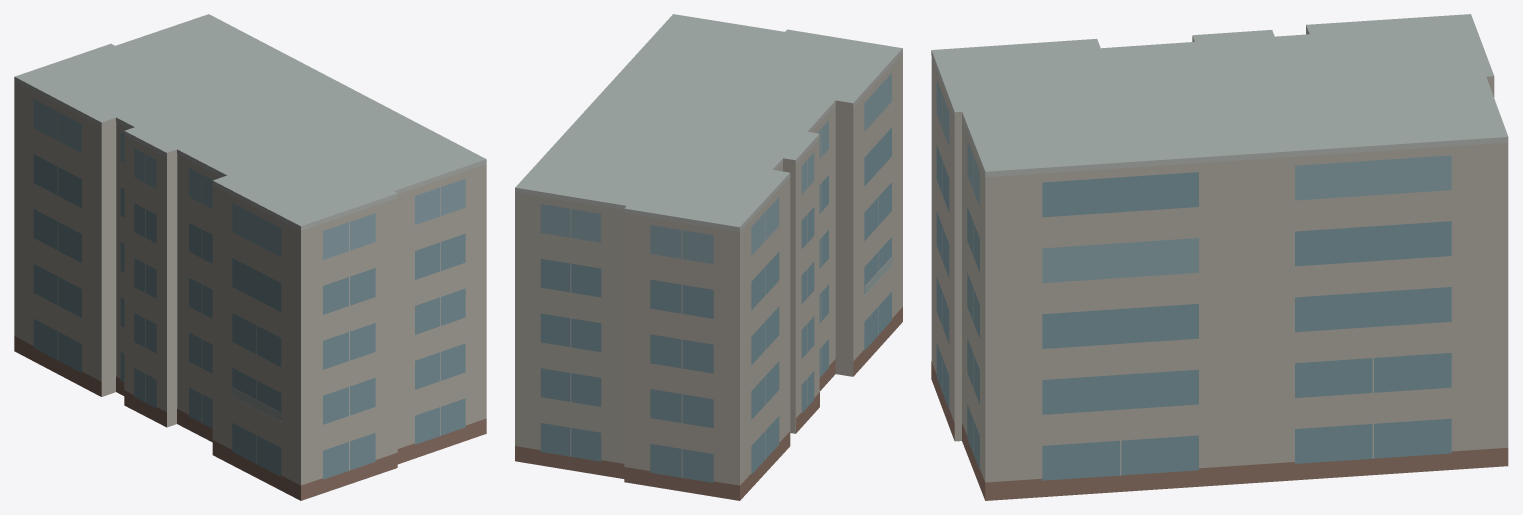
The model's file is survey-upis-32754509.glb.
3 renders of one model, left to right at view 1: azimuth 30°, elevation 25°; view 2: azimuth 150°, elevation 25°; view 3: azimuth 270°, elevation 25°, orthographic. The views are drawn at different scales.
Parts seen in each view (by area): view 1: survey-upis-32754509.tmp; view 2: survey-upis-32754509.tmp; view 3: survey-upis-32754509.tmp.
Boxes of the visible parts, box(x1,y1,x2,y2) form: survey-upis-32754509.tmp: box(14, 14, 486, 500); survey-upis-32754509.tmp: box(515, 14, 902, 500); survey-upis-32754509.tmp: box(931, 14, 1508, 500).
Bounding box in the file's own units: 14.79 × 14.39 × 22.87.
